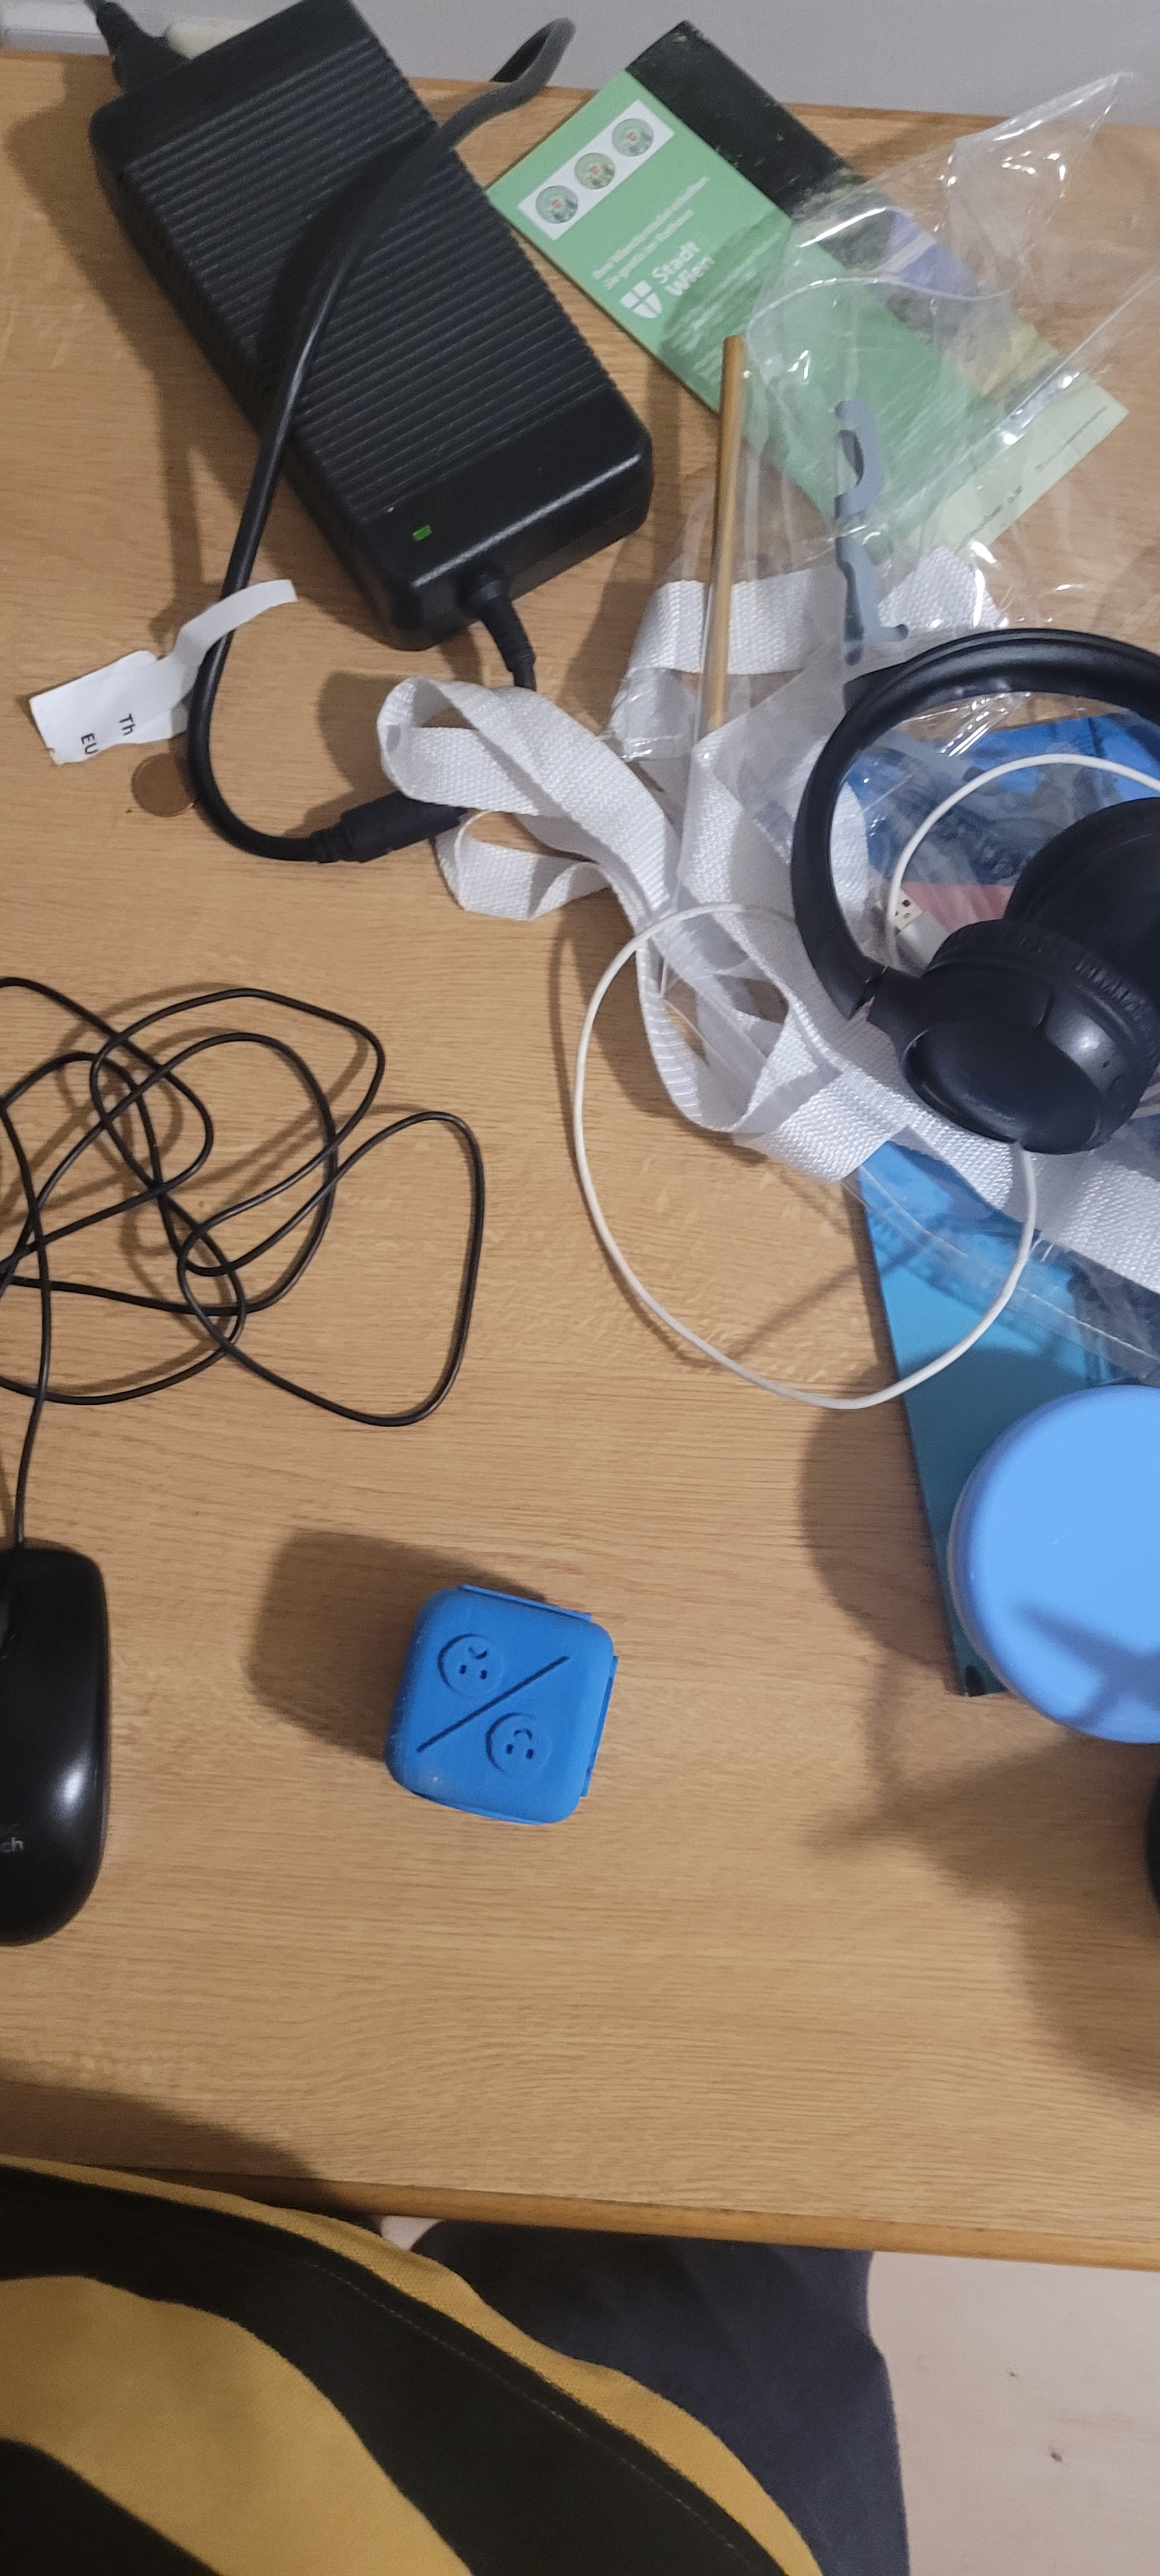Like/Dislike: (426, 1575, 572, 1843)
